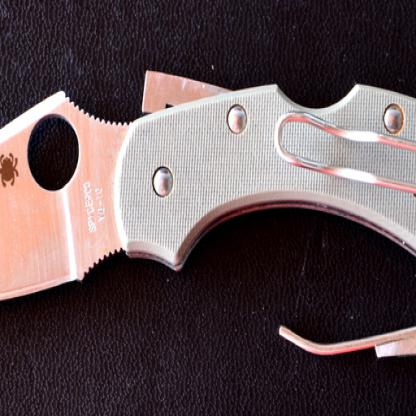knife: (0, 60, 415, 314)
